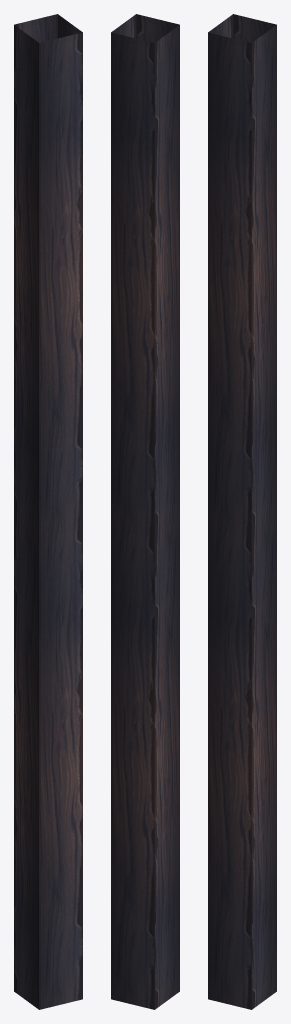
The model's file is Pole_B.fbx.
3 renders of one model, left to right at view 1: azimuth 30°, elevation 25°; view 2: azimuth 150°, elevation 25°; view 3: azimuth 330°, elevation 25°, orthographic.
Parts seen in each view (by area): view 1: Pole_B; view 2: Pole_B; view 3: Pole_B.
Part boxes in pixels (bbox=[...]): Pole_B: bbox=[14, 14, 82, 1009]; Pole_B: bbox=[111, 14, 179, 1009]; Pole_B: bbox=[208, 14, 276, 1009].
Size of the model in its own units: 0.06 by 1.27 by 0.06.
